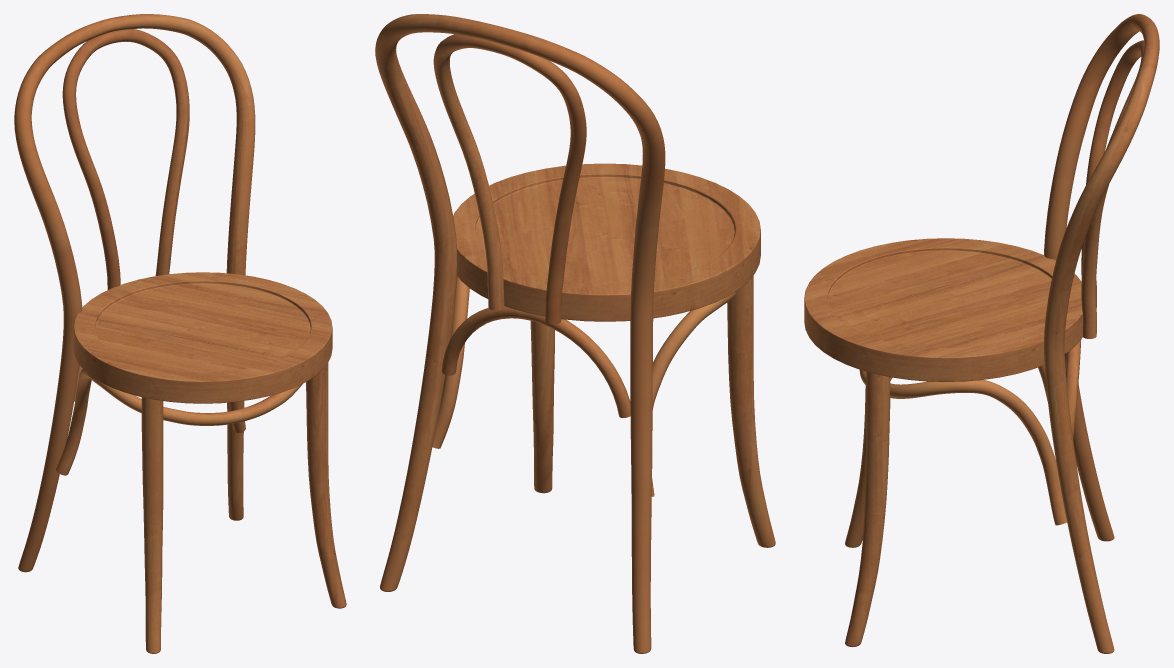
The model's file is chair_46_01.001.fbx.
3 views of the same model, side by side, from view 1: azimuth 30°, elevation 25°; view 2: azimuth 150°, elevation 25°; view 3: azimuth 270°, elevation 25° (orthographic). The views are drawn at different scales.
Visible parts, largest first — view 1: chair_46_01.001; view 2: chair_46_01.001; view 3: chair_46_01.001.
Boxes of the visible parts, x1=… form: chair_46_01.001: x1=14, y1=14, x2=346, y2=653; chair_46_01.001: x1=375, y1=14, x2=775, y2=653; chair_46_01.001: x1=804, y1=14, x2=1159, y2=653.
Size of the model in its own units: 42.93 by 89.93 by 51.97.
Materials: 1 (1 with a texture image).
